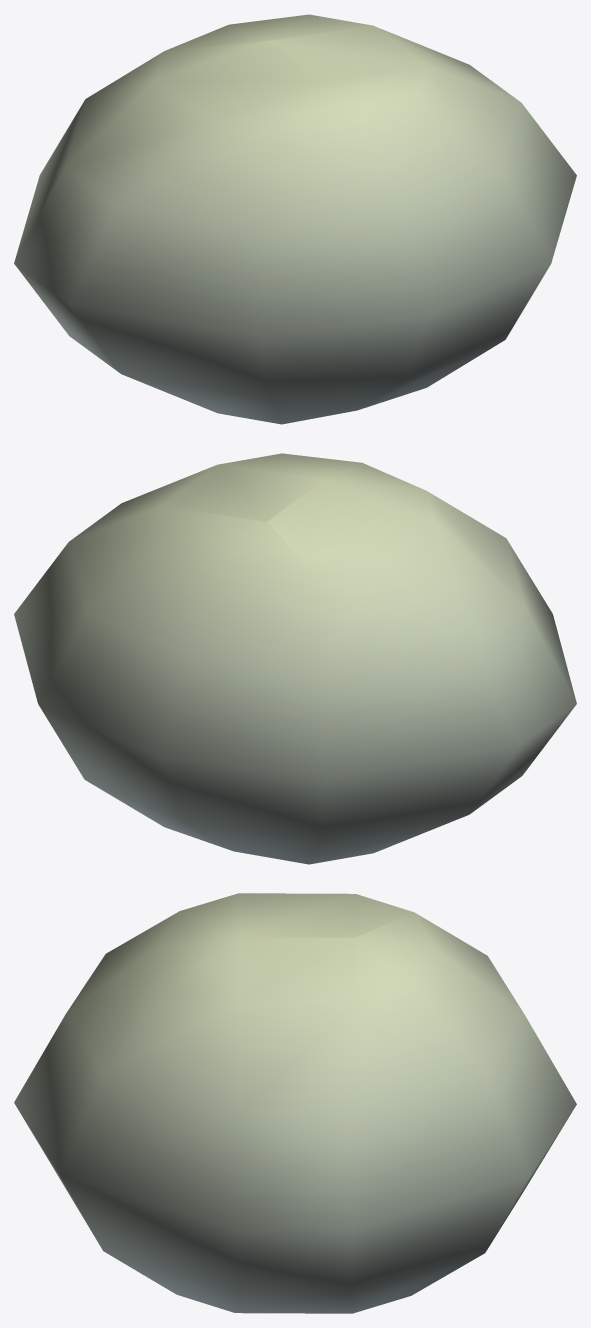
Rendered from nuggets_iron_2.fbx.
The picture shows the model from 3 angles, top to bottom: view 1: azimuth 30°, elevation 25°; view 2: azimuth 150°, elevation 25°; view 3: azimuth 270°, elevation 25°; orthographic projection. The views are drawn at different scales.
Visible parts, largest first — view 1: nuggets_iron_2; view 2: nuggets_iron_2; view 3: nuggets_iron_2.
Boxes of the visible parts, x1,y1,x2,y2 form: nuggets_iron_2: [14, 14, 576, 424]; nuggets_iron_2: [14, 453, 576, 864]; nuggets_iron_2: [14, 893, 576, 1313].
Bounding box in the file's own units: 62.93 × 37.46 × 57.54.
Materials: 1 (1 with a texture image).
